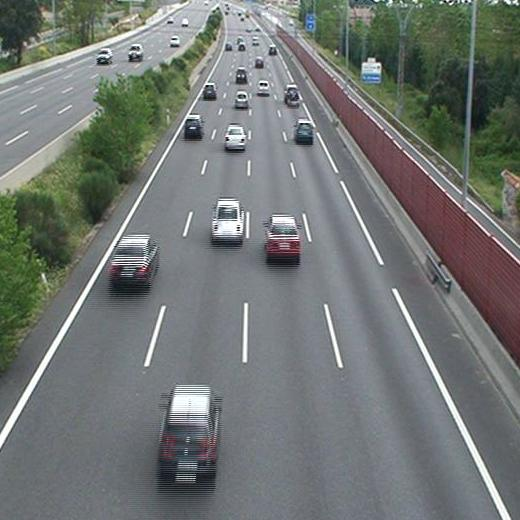car: (159, 387, 219, 475), (111, 237, 158, 281), (263, 215, 300, 253), (211, 199, 243, 240), (225, 127, 246, 148), (294, 121, 314, 140), (184, 116, 202, 133), (234, 92, 248, 107), (284, 85, 297, 100), (203, 84, 217, 97), (257, 81, 269, 94), (235, 67, 247, 80), (269, 45, 278, 57), (238, 42, 247, 53), (254, 57, 263, 67)
